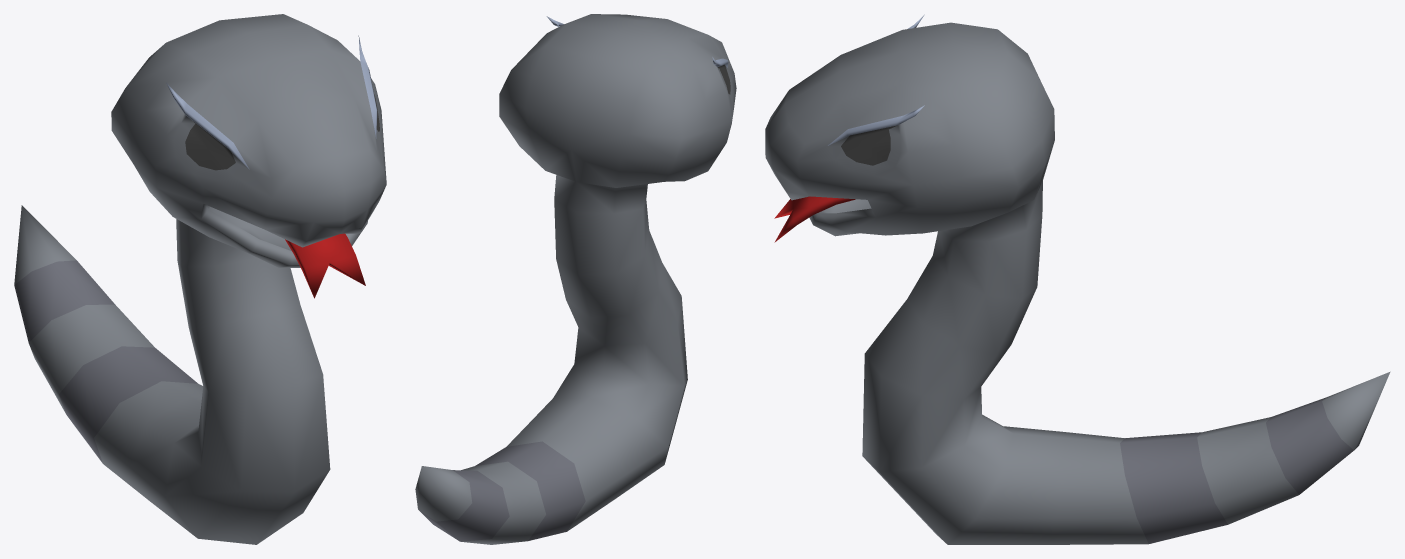
Rendered from Snakelet_acc.FBX.
3 renders of one model, left to right at view 1: azimuth 30°, elevation 25°; view 2: azimuth 150°, elevation 25°; view 3: azimuth 270°, elevation 25°, orthographic. The views are drawn at different scales.
Visible parts, largest first — view 1: Snakelet_acc; view 2: Snakelet_acc; view 3: Snakelet_acc.
Boxes of the visible parts, x1,y1,x2,y2 form: Snakelet_acc: (14,14,386,544); Snakelet_acc: (415,14,736,544); Snakelet_acc: (765,14,1390,544).
Size of the model in its own units: 37.64 by 80.87 by 93.24.
